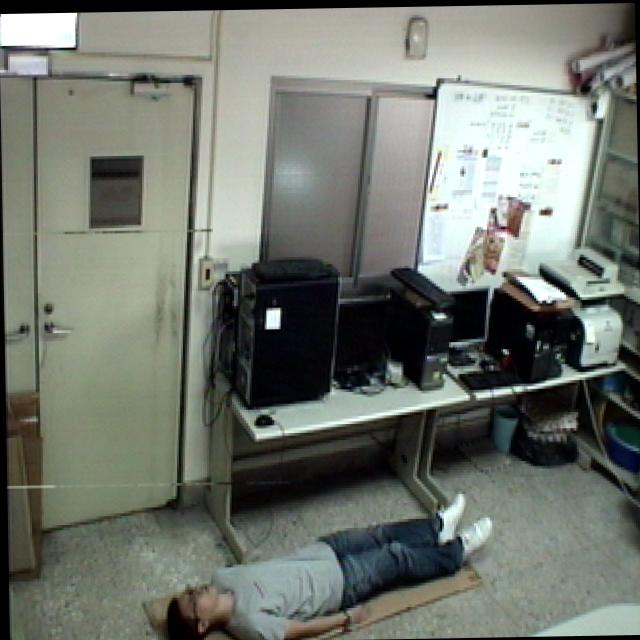lie: (157, 485, 504, 640)
